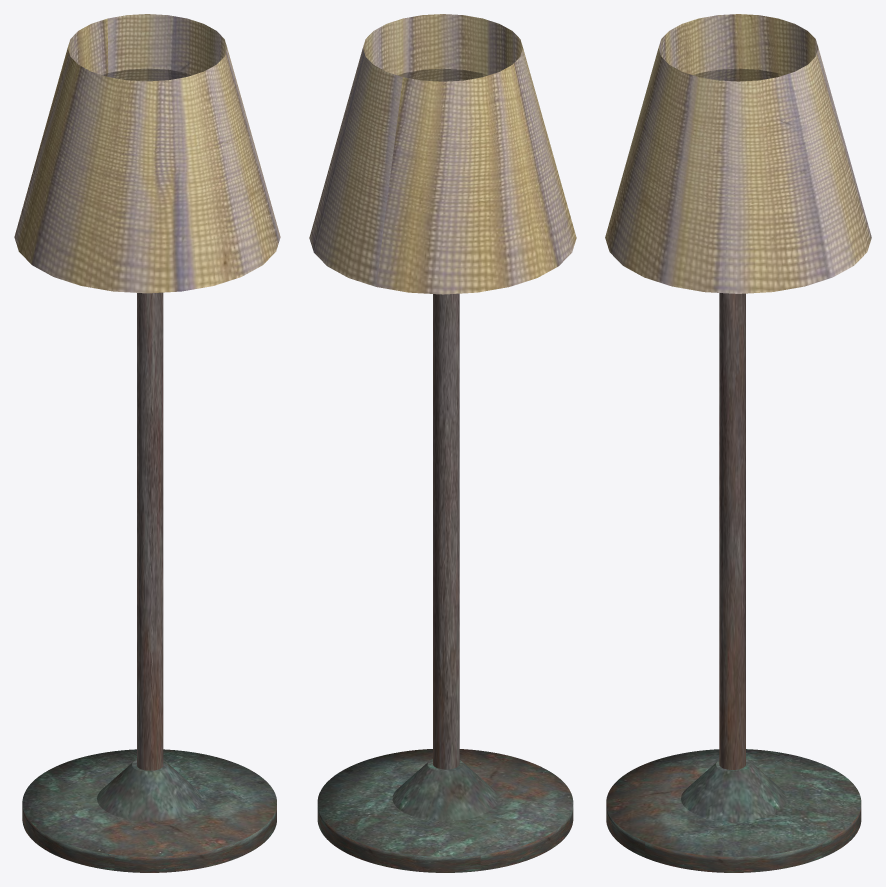
File: Lamp1.FBX
3 views of the same model, side by side, from view 1: azimuth 30°, elevation 25°; view 2: azimuth 150°, elevation 25°; view 3: azimuth 270°, elevation 25° (orthographic).
Visible parts, largest first — view 1: Cone001, Cylinder001, Cylinder002; view 2: Cone001, Cylinder001, Cylinder002; view 3: Cone001, Cylinder001, Cylinder002.
Part boxes in pixels (x1,y1,x2,y2): Cone001: (14,14,280,293); Cylinder001: (22,749,276,872); Cylinder002: (137,292,163,770); Cone001: (309,14,576,294); Cylinder001: (317,749,573,872); Cylinder002: (433,293,459,769); Cone001: (605,14,871,293); Cylinder001: (606,749,861,872); Cylinder002: (719,293,745,769).
Bounding box in the file's own units: 53.81 × 172 × 53.81.
Materials: 3 (3 with a texture image).
